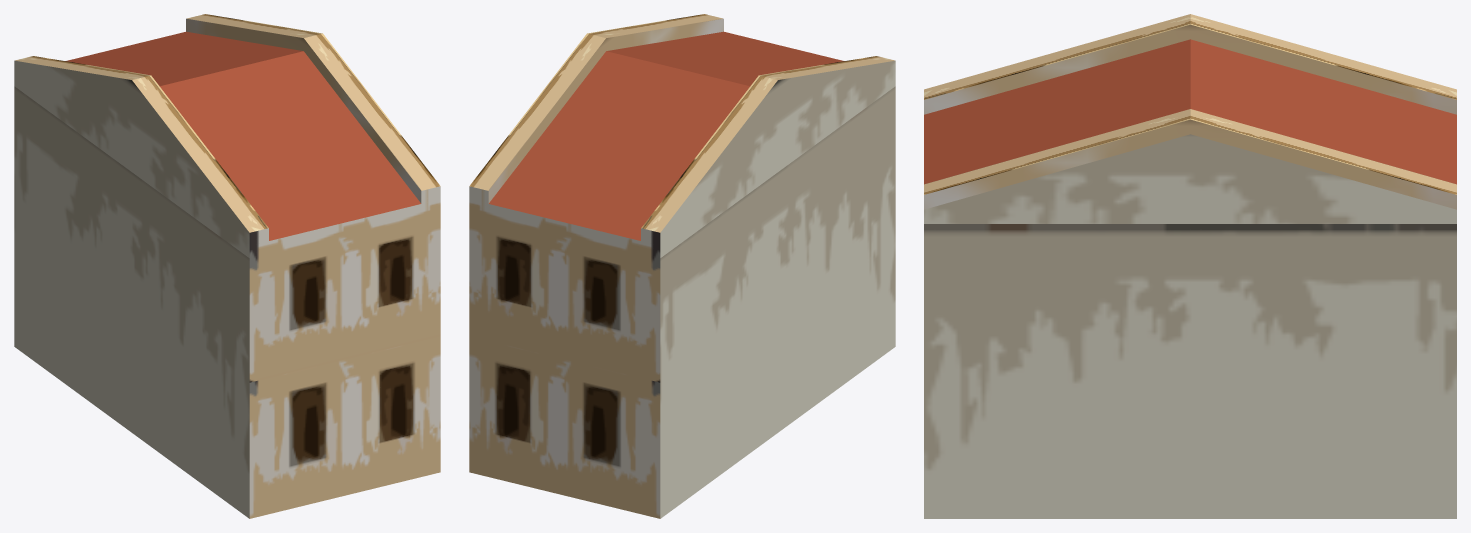
File: SM_Building_Large_02.fbx
3 renders of one model, left to right at view 1: azimuth 30°, elevation 25°; view 2: azimuth 150°, elevation 25°; view 3: azimuth 270°, elevation 25°, orthographic. The views are drawn at different scales.
Visible parts, largest first — view 1: SM_Building_Large_02_LOD0; view 2: SM_Building_Large_02_LOD0; view 3: SM_Building_Large_02_LOD0.
Boxes of the visible parts, x1,y1,x2,y2 form: SM_Building_Large_02_LOD0: (14,14,440,518); SM_Building_Large_02_LOD0: (469,14,895,518); SM_Building_Large_02_LOD0: (924,14,1456,518).
Size of what is drawn, in the model's own units: 5.07 by 8.95 by 10.82.
